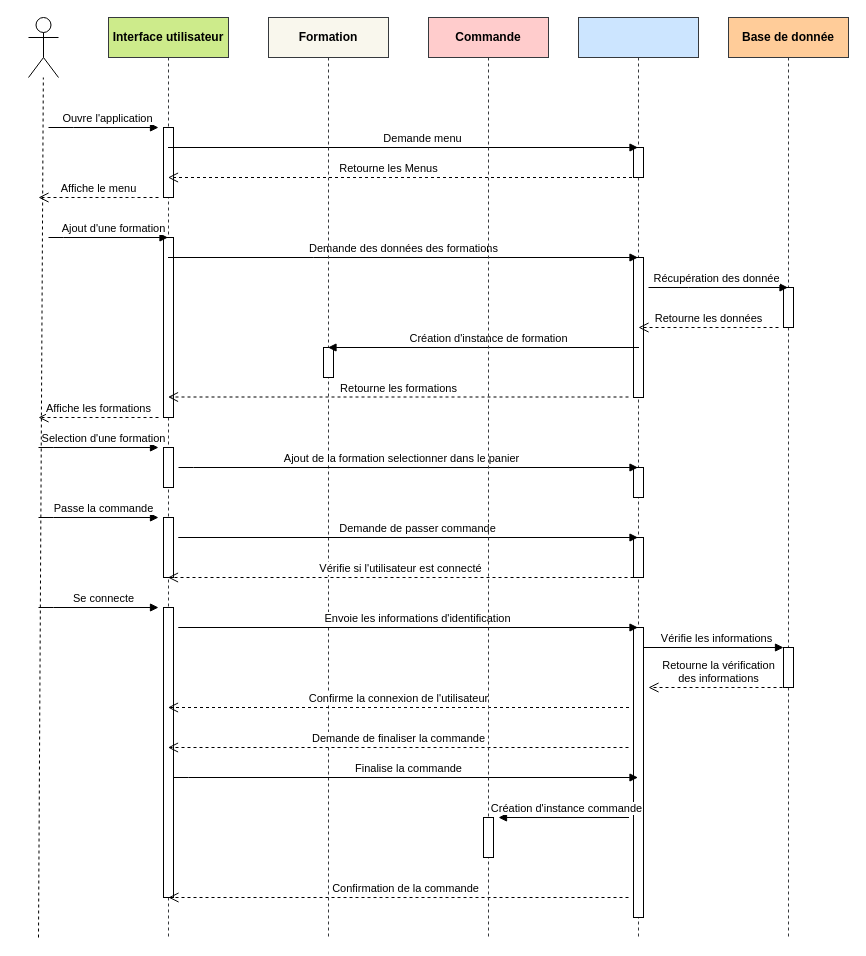
Some shapes in this 866 by 956 pixel diagram are drawn without their labels. The centre of each missing label's shape, as x and y in pixels:
"Application" belongs at (x=638, y=477).
"Utilisateur" belongs at (x=43, y=47).
